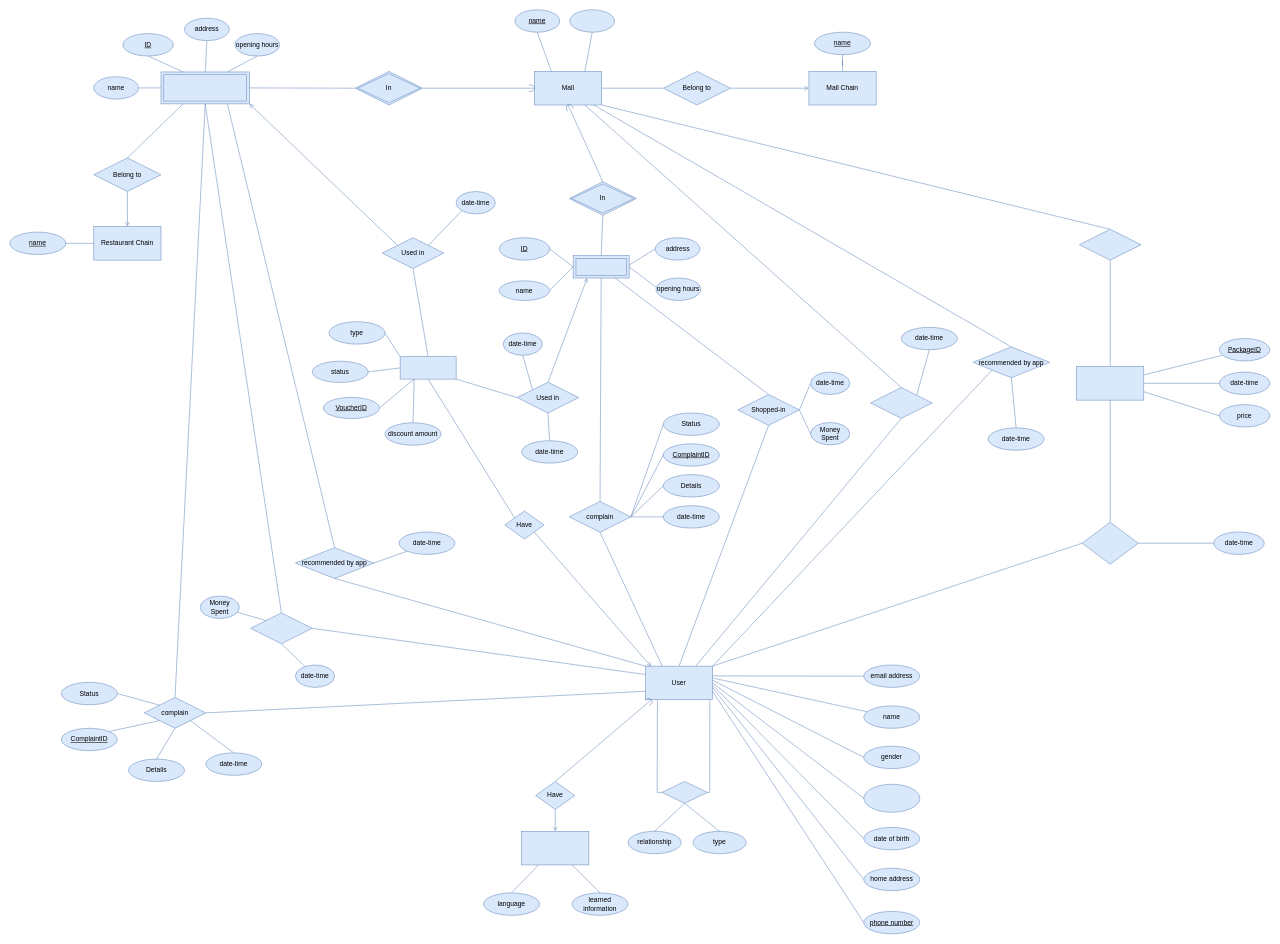
Some shapes in this 1280 by 944 pixel diagram are drawn without their labels. Here are the shapes that lost their labels. From the top down, the centre of each, then its label:
point (592, 20): rating
point (204, 87): Restaurant & Cafeterias
point (1110, 244): Itinerary
point (601, 266): Retail Shops
point (428, 367): Voucher
point (1110, 383): DayPackage
point (901, 402): Visit
point (1110, 543): SignUp
point (281, 628): Dined-in
point (684, 792): Related
point (891, 798): monthly income
point (555, 848): User Preference
